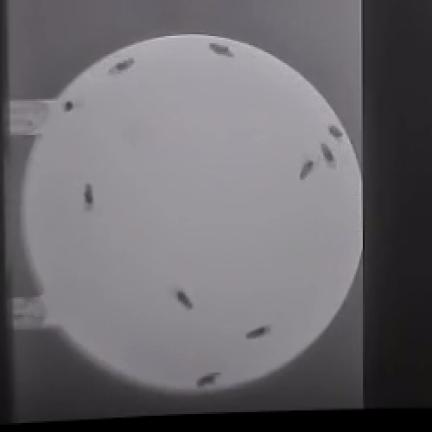fly: (109, 58, 134, 75), (246, 326, 271, 340), (175, 290, 193, 309), (197, 373, 219, 388), (322, 143, 335, 167), (210, 44, 233, 57), (299, 161, 314, 179), (85, 184, 93, 208), (329, 125, 343, 138), (64, 101, 74, 111)
